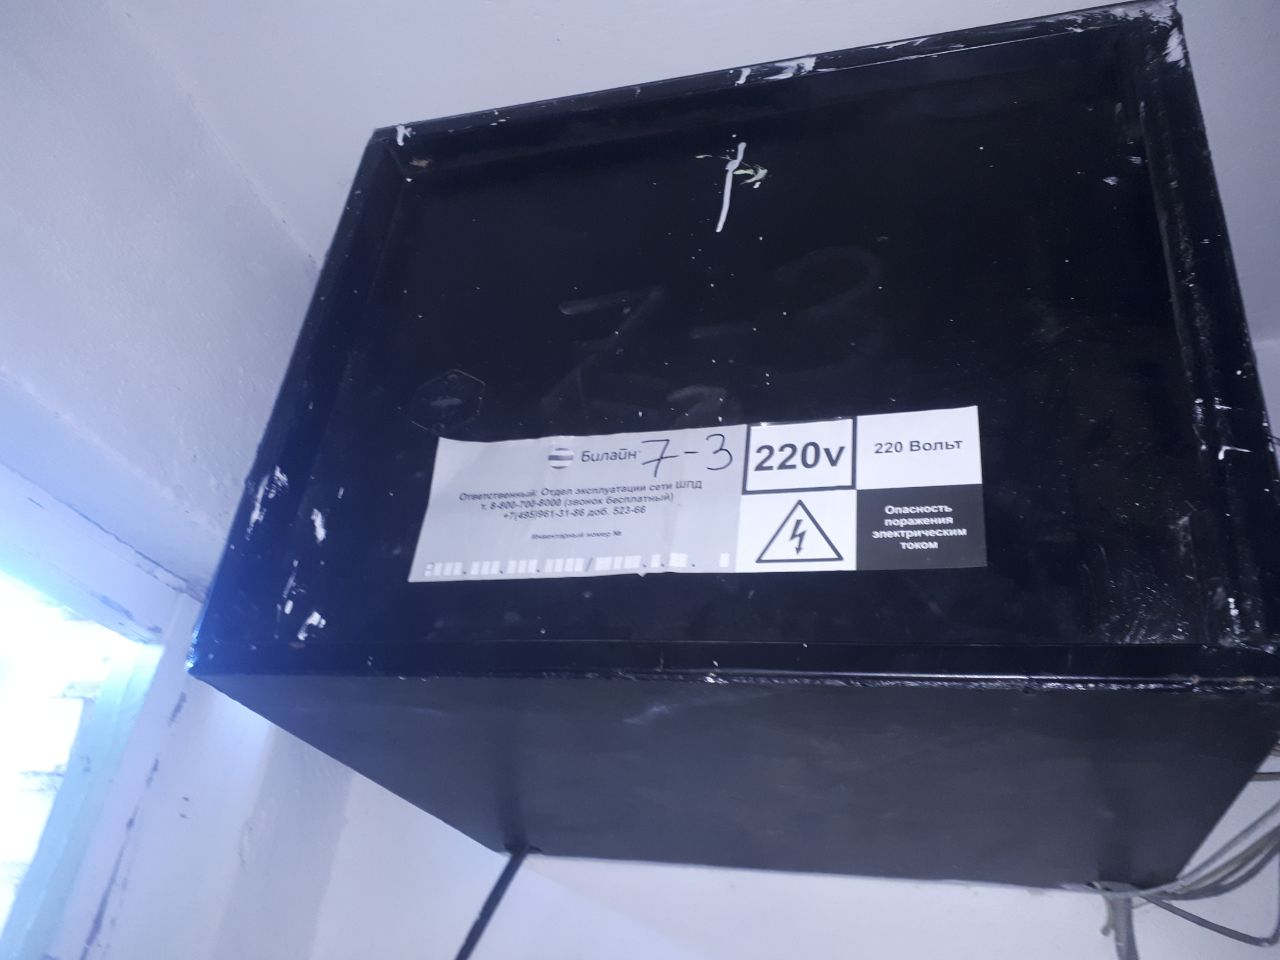shta-9m: (171, 9, 1272, 897)
